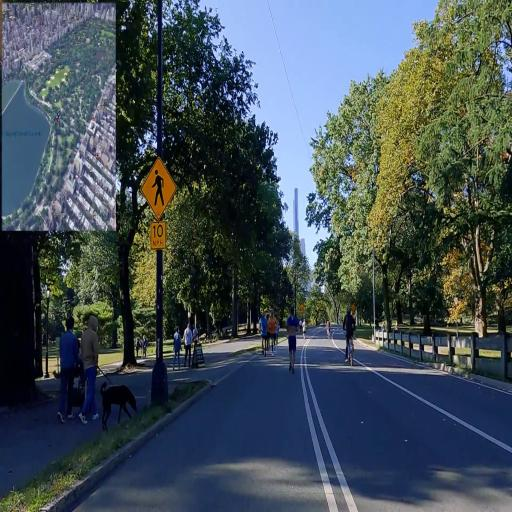Street_Light: (352, 222, 380, 349), (41, 282, 52, 380)
